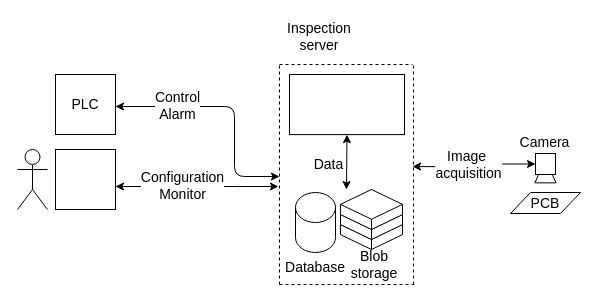
Image size: 598x303. Some labels were removed from this diagram. Here are the shapes that lost their labels. From the top down, the centre of each, then its label:
At (x=346, y=104): "Open AOI".
At (x=85, y=179): "Web browser".
